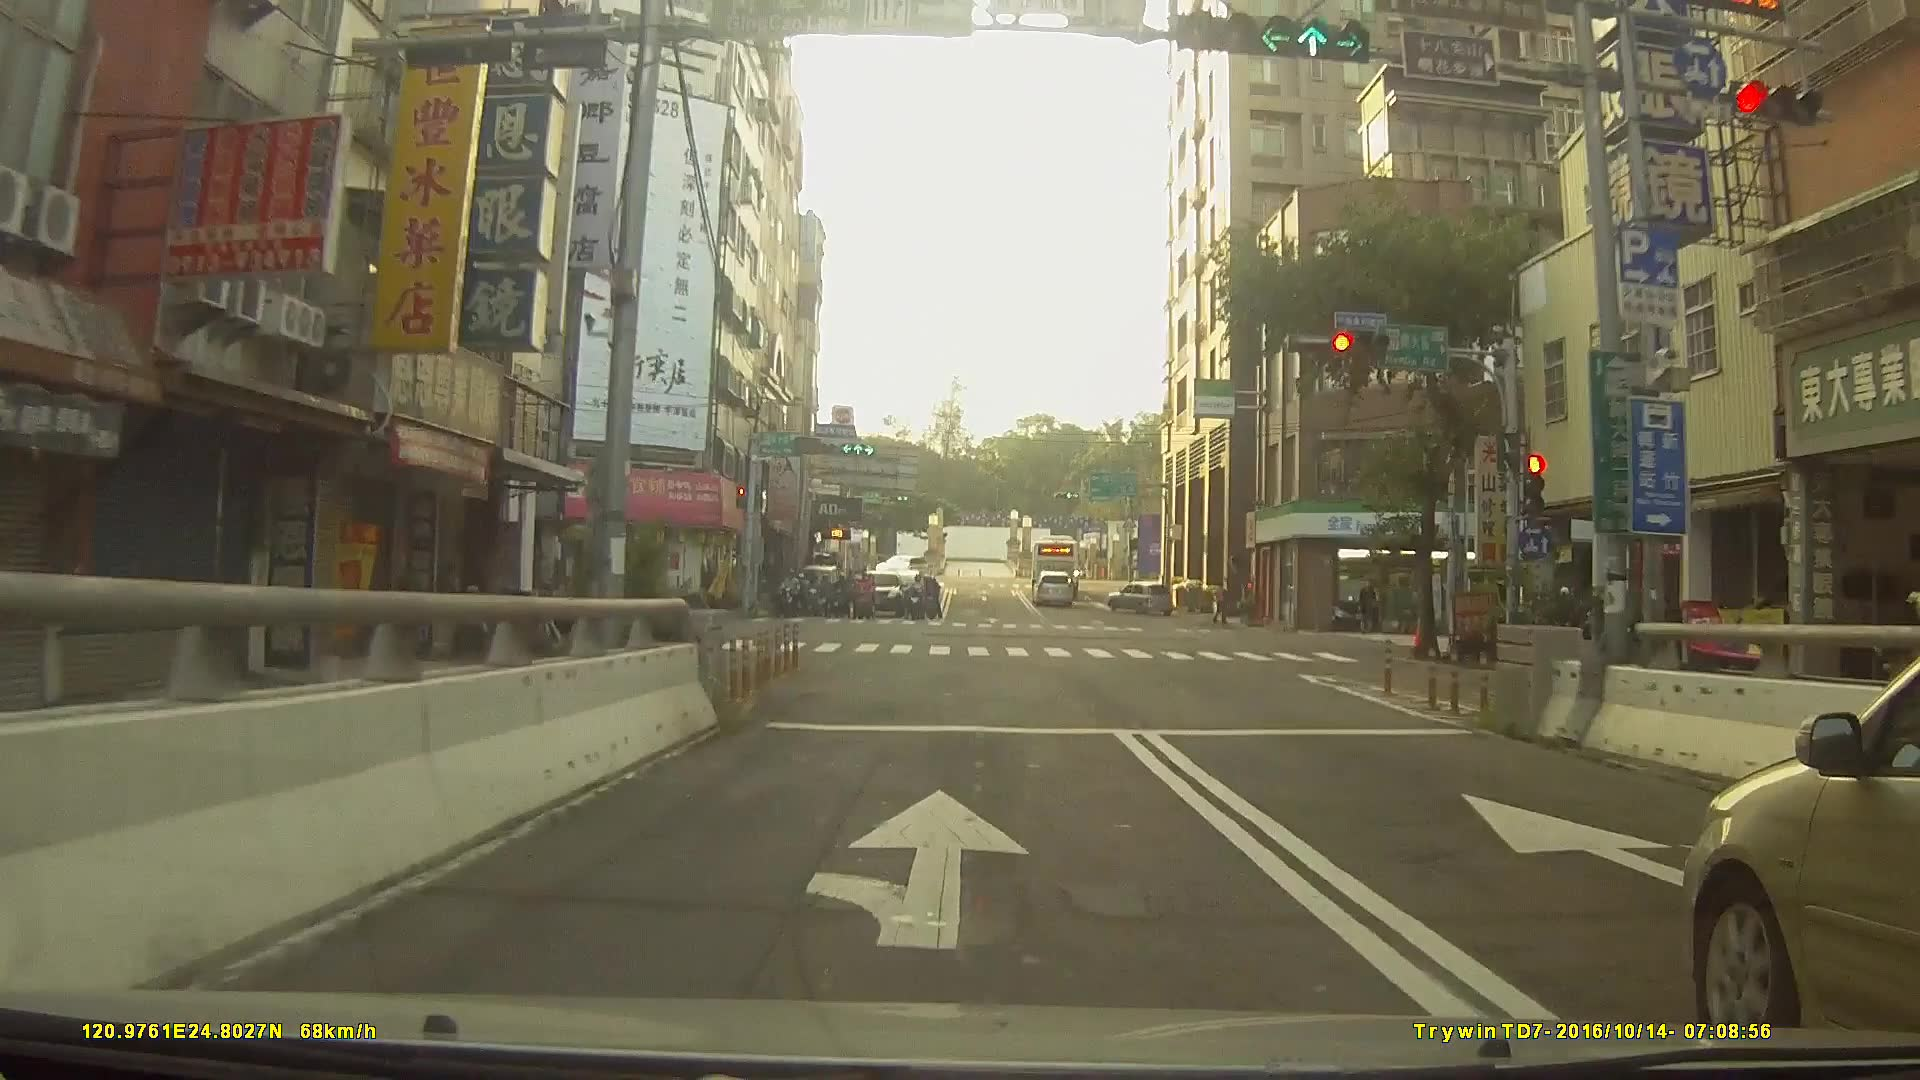pedestrian: (1356, 578, 1381, 633), (1210, 580, 1230, 626)
vehicle: (1684, 650, 1920, 1042), (1027, 535, 1084, 585), (855, 570, 907, 620), (1105, 579, 1177, 615), (869, 551, 930, 579), (1032, 568, 1077, 603)
